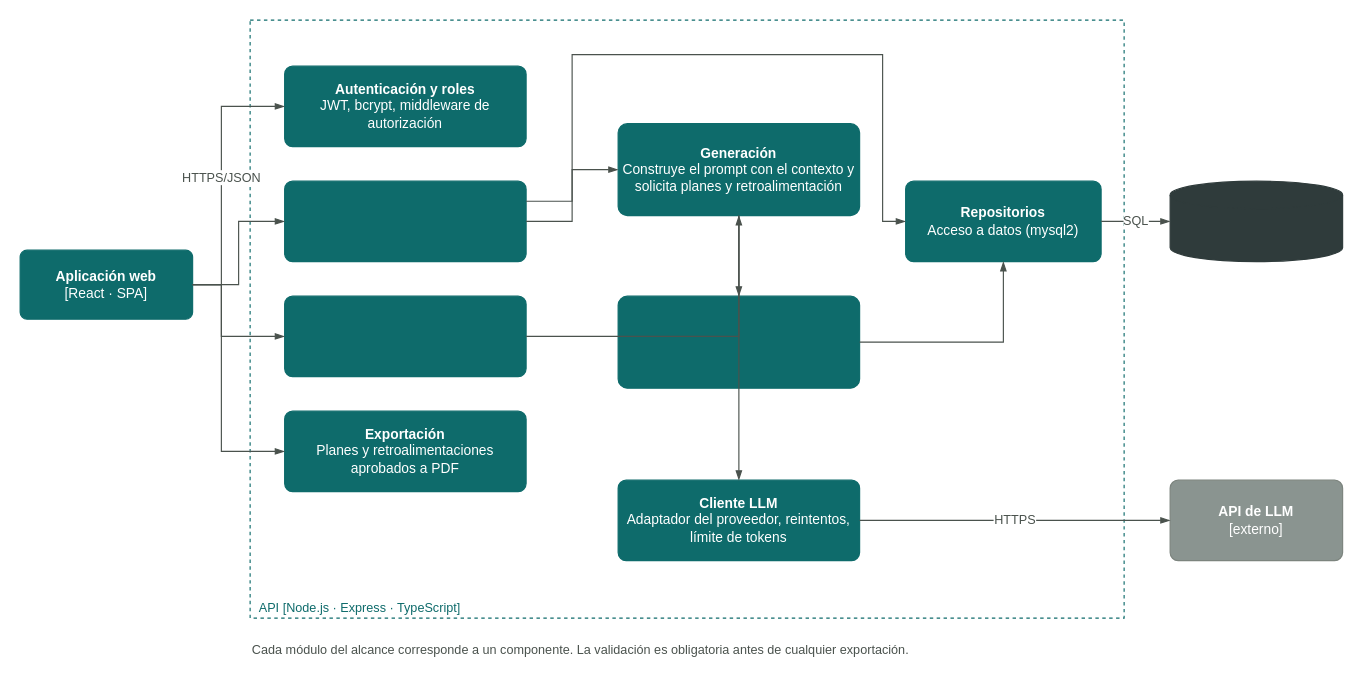
This 1363x683 diagram has some shape labels left out. Each missing label, with the centre of its shape:
Cursos y contexto Objetivos, materiales, rúbrica y criterios: (x=404, y=221)
MySQL 8: (x=1256, y=221)
Trabajos Carga y anonimización de trabajos: (x=404, y=336)
Validación y versiones Estados pendiente / aprobado; registro de validación: (x=738, y=341)
